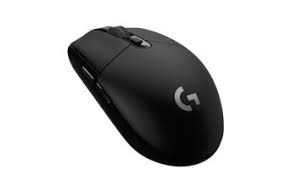mouse: (64, 20, 238, 170)
